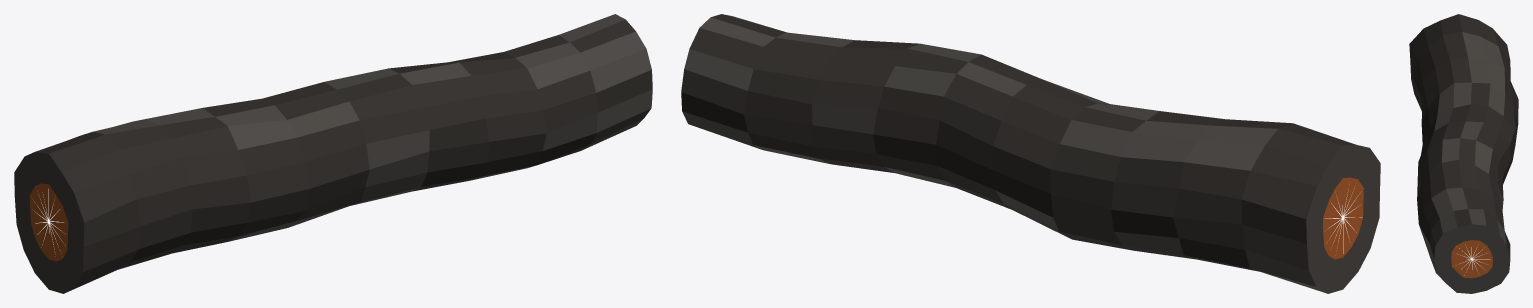
The model's file is charred-log-a.glb.
3 renders of one model, left to right at view 1: azimuth 30°, elevation 25°; view 2: azimuth 150°, elevation 25°; view 3: azimuth 270°, elevation 25°, orthographic. The views are drawn at different scales.
Parts seen in each view (by area): view 1: prop_charred-log-a_LOD0; view 2: prop_charred-log-a_LOD0; view 3: prop_charred-log-a_LOD0.
Boxes of the visible parts, x1,y1,x2,y2 form: prop_charred-log-a_LOD0: (14, 14, 652, 293); prop_charred-log-a_LOD0: (681, 14, 1380, 293); prop_charred-log-a_LOD0: (1409, 14, 1518, 293).
Size of the model in its own units: 4.2 by 0.9511 by 0.9727.
